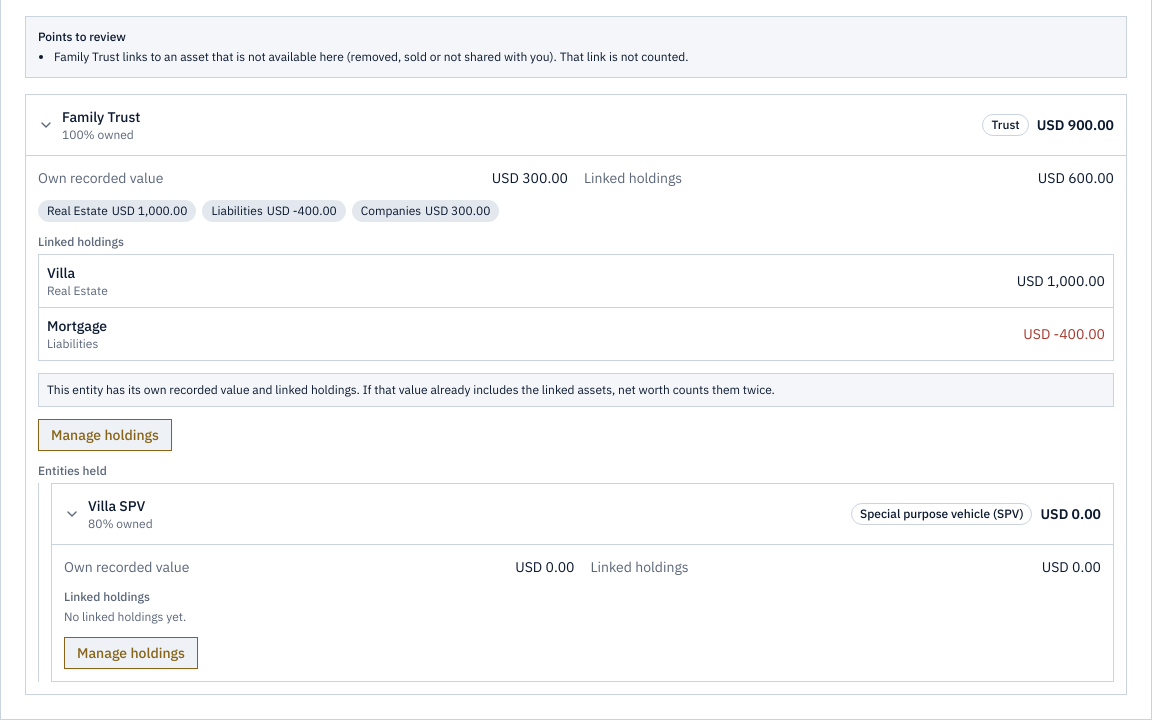
ManageHoldingsDialog › shows a translated error when the action refuses
(page scrolled)
Click the button with aria-label "Manage holdings of Villa SPV": click(131, 653) [64, 637, 198, 669]
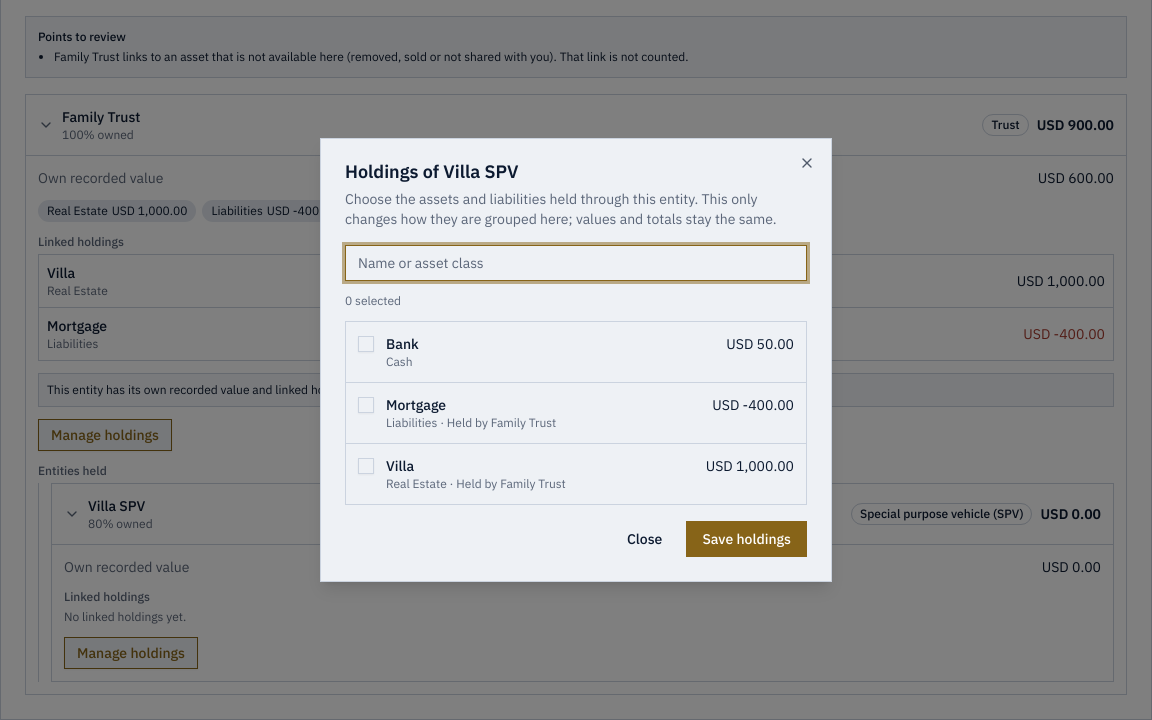
Click the button "Save holdings": click(747, 539) [686, 521, 807, 557]
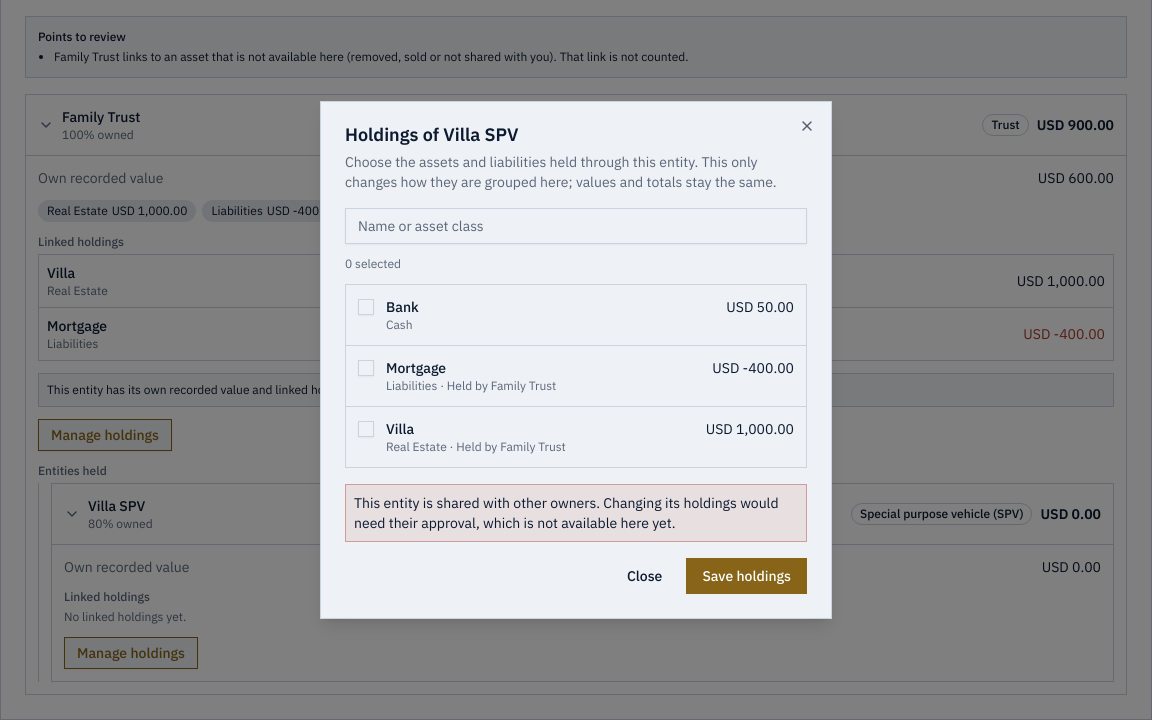
Check: the message shows "shared with other owners", box [354, 494, 778, 532]
